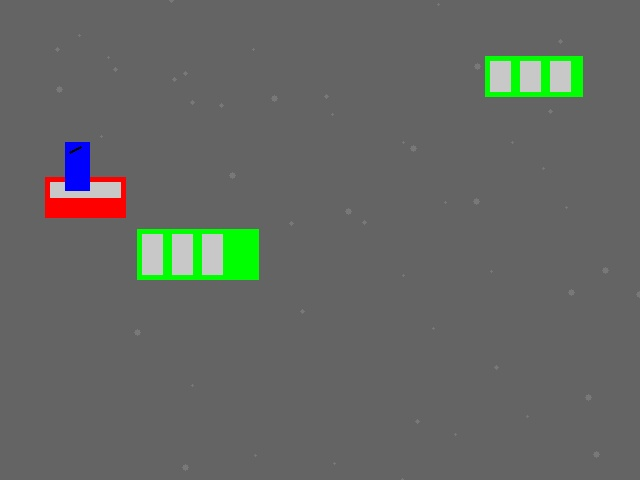bus: (137, 229, 258, 279), (485, 56, 582, 96)
car: (45, 177, 125, 217)
motorcycle: (65, 142, 89, 190)
